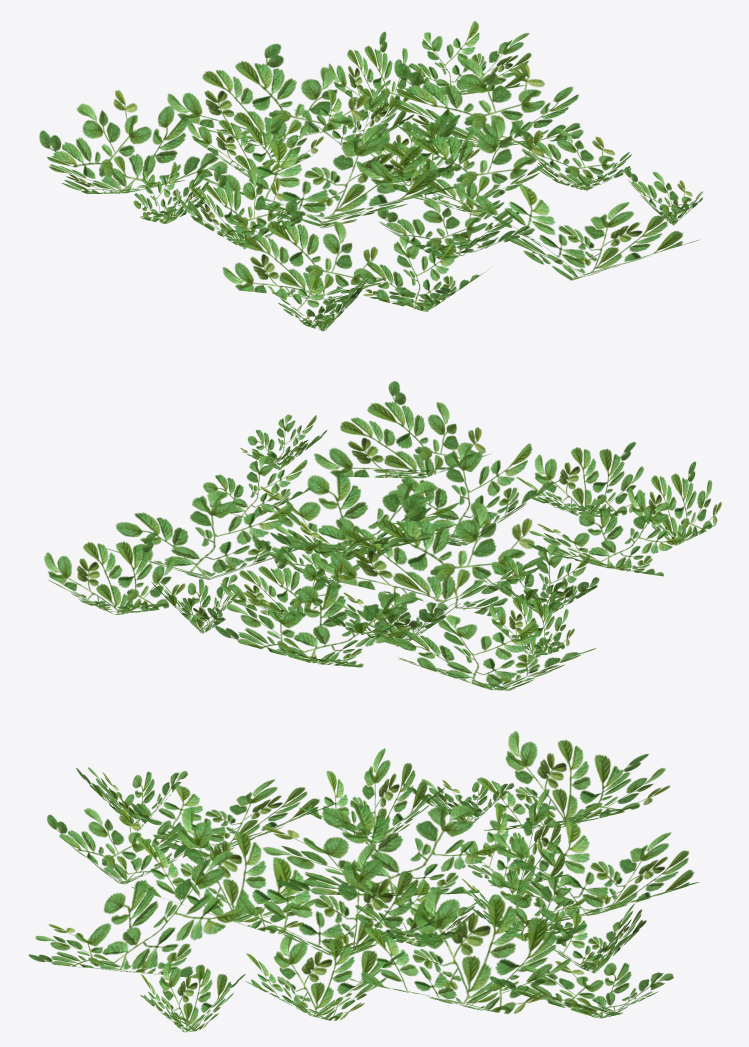
The model's file is grass1_22.glb.
3 renders of one model, top to bottom at view 1: azimuth 30°, elevation 25°; view 2: azimuth 150°, elevation 25°; view 3: azimuth 270°, elevation 25°, orthographic. The views are drawn at different scales.
Parts seen in each view (by area): view 1: grass1_22; view 2: grass1_22; view 3: grass1_22.
Boxes of the visible parts, left/top/right/bottom form: grass1_22: left=39, top=21, right=703, bottom=331; grass1_22: left=44, top=381, right=721, bottom=690; grass1_22: left=28, top=731, right=698, bottom=1032.
Bounding box in the file's own units: 5.65 × 0.817 × 5.94.
Materials: 1 (1 with a texture image).
